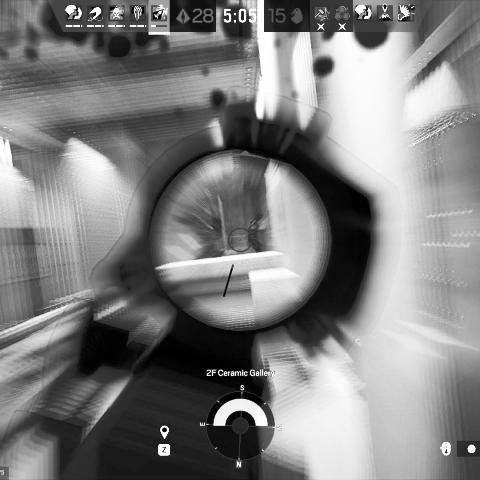Character: (247, 210, 268, 252)
Head: (257, 212, 263, 218)
